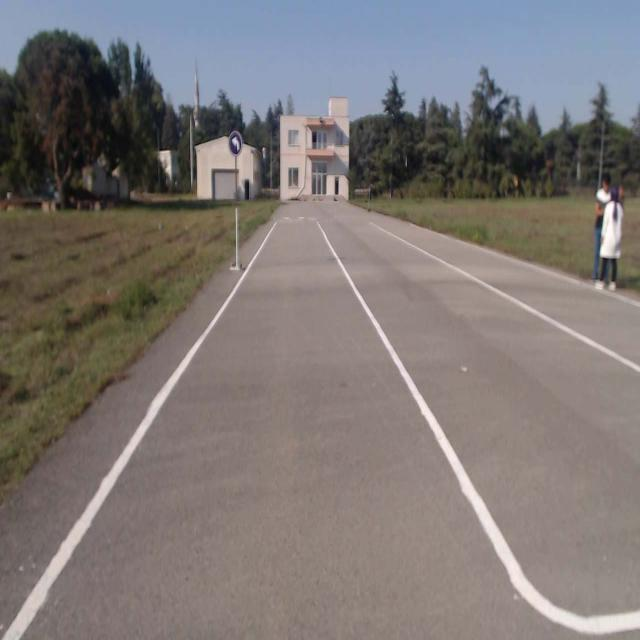sol: (228, 131, 242, 156)
